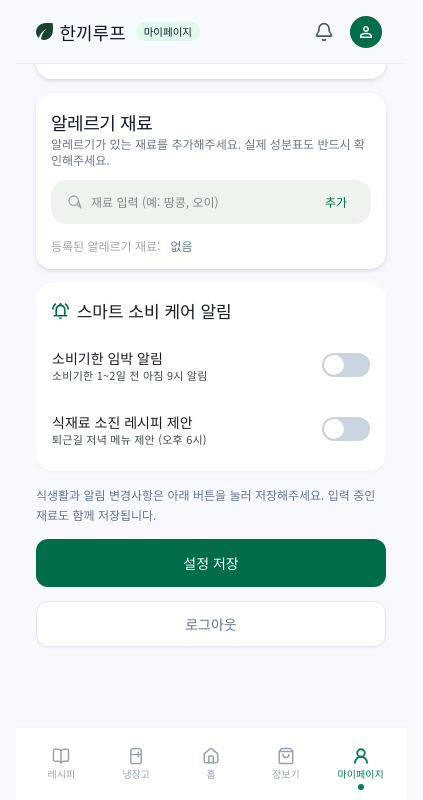
Test: guards duplicate save clicks while the request is pending
(page scrolled)
Click the button "설정 저장".
click(211, 563)  # box [36,539,386,587]
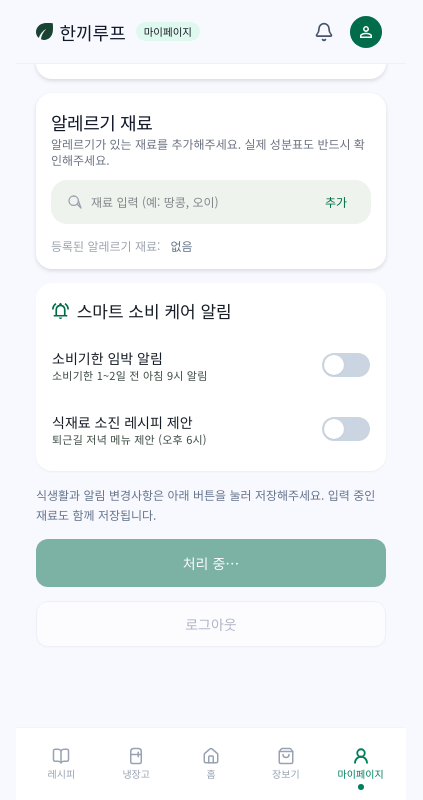
Click the button "처리 중…".
click(211, 563)  # box [36,539,386,587]
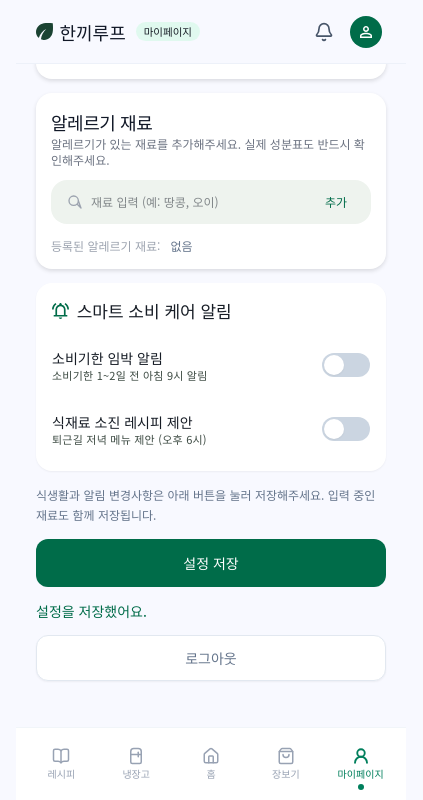
Expected: the text "설정을 저장했어요." is shown, [36,601,147,621]
